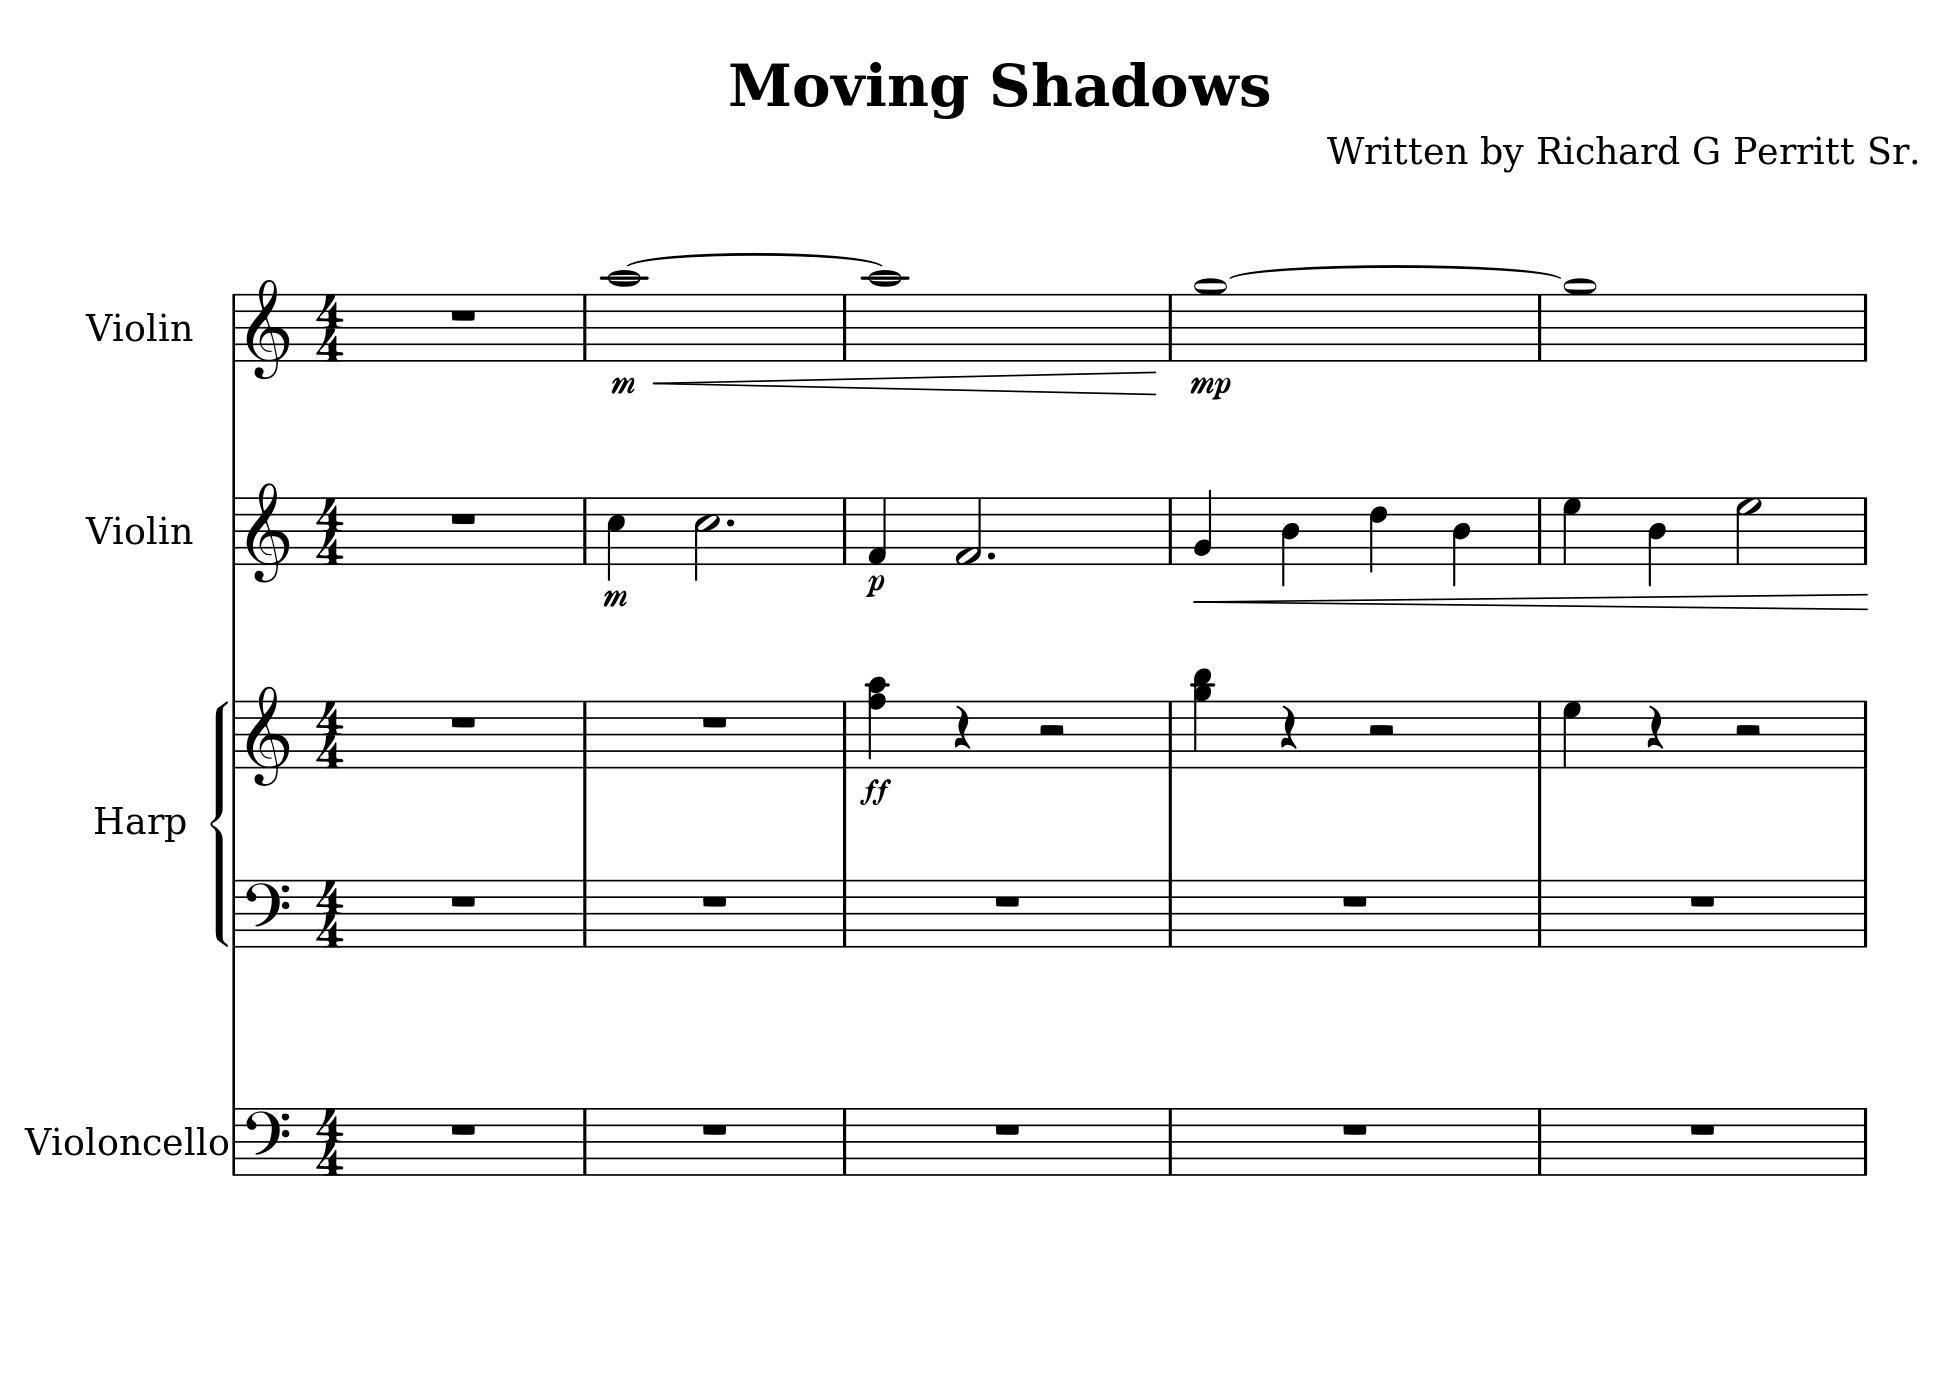1_10: (865, 268, 904, 363), (604, 268, 642, 363)
1_9: (1192, 276, 1228, 363), (1561, 277, 1597, 363)
2_1: (954, 495, 984, 567)
2_5: (691, 496, 721, 583)
2_7: (1734, 495, 1762, 565)
4: (313, 495, 346, 532), (313, 292, 346, 328), (313, 877, 346, 913), (313, 1105, 346, 1141), (313, 733, 346, 768), (313, 328, 346, 361), (313, 531, 346, 564), (313, 913, 346, 946), (313, 1141, 346, 1174), (315, 697, 345, 733)
4_1: (865, 495, 889, 565)
4_2: (1192, 486, 1215, 565)
4_4: (1450, 493, 1473, 586), (1279, 495, 1302, 586), (1647, 493, 1668, 586)
4_5: (604, 495, 627, 583)
4_6: (1368, 495, 1389, 576)
4_7: (1561, 495, 1585, 565), (1560, 699, 1584, 769)
4_8_10: (864, 675, 889, 769)
4_9_11: (1191, 664, 1215, 771)
Brace: (210, 696, 229, 946)
Crescendo_hairpin: (655, 370, 1158, 400), (1194, 592, 1869, 610)
Fclef: (243, 877, 292, 949), (243, 1105, 292, 1176)
Gclef: (244, 277, 291, 381), (244, 480, 291, 583), (244, 682, 291, 786)
Rests1: (445, 304, 480, 324), (445, 889, 478, 909), (991, 1119, 1024, 1138), (1686, 1119, 1719, 1138), (1339, 1119, 1371, 1138), (445, 508, 478, 526), (445, 712, 478, 730), (697, 712, 730, 730), (1686, 891, 1719, 909), (445, 1119, 478, 1137), (697, 1120, 730, 1138), (699, 891, 730, 909), (991, 891, 1023, 909), (1339, 891, 1371, 909)
Rests2: (1035, 721, 1068, 739), (1365, 721, 1398, 739), (1731, 721, 1764, 739)
Rests4: (1642, 703, 1668, 754), (1276, 703, 1300, 753), (949, 703, 973, 751)
Single_barline: (835, 879, 853, 946), (835, 1107, 853, 1174), (835, 294, 853, 360), (835, 496, 853, 562), (835, 700, 853, 766), (1531, 700, 1549, 766), (1161, 880, 1179, 946), (1162, 292, 1179, 361), (1857, 496, 1873, 564), (226, 700, 243, 768), (1857, 1107, 1873, 1174), (1857, 294, 1873, 360), (1162, 496, 1179, 562), (1857, 700, 1873, 766), (1162, 700, 1179, 766), (1531, 880, 1548, 946), (1857, 880, 1873, 946), (1162, 1108, 1179, 1174), (1531, 1108, 1548, 1174), (1531, 294, 1548, 358), (226, 292, 241, 361), (226, 496, 241, 564), (577, 879, 592, 946), (577, 294, 592, 360), (577, 496, 592, 562), (1533, 496, 1548, 562), (577, 700, 592, 766), (577, 1108, 592, 1174), (228, 1107, 241, 1176), (228, 880, 241, 946)
TimeSig: (313, 495, 349, 565), (313, 292, 349, 361), (313, 699, 349, 768), (313, 879, 349, 946), (313, 1107, 348, 1174)
dot: (723, 514, 736, 529), (985, 547, 997, 562)
ff: (858, 775, 892, 808)
m: (600, 585, 631, 610), (607, 373, 637, 396)
mp: (1188, 373, 1233, 402)
p: (862, 573, 886, 600)
